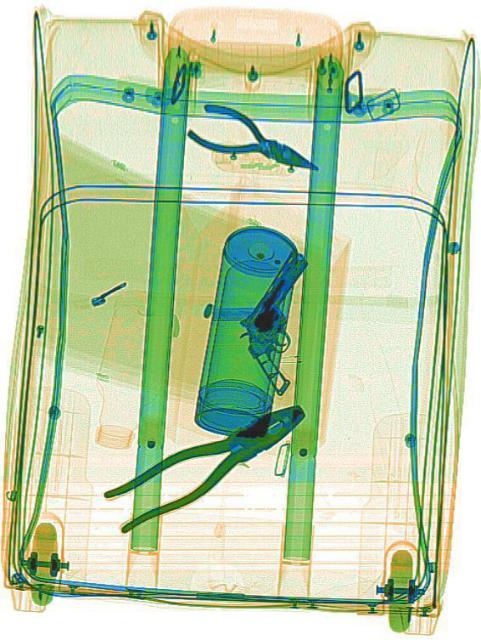Gun: (227, 247, 346, 396)
Pliers: (101, 387, 310, 541), (185, 93, 322, 187)
